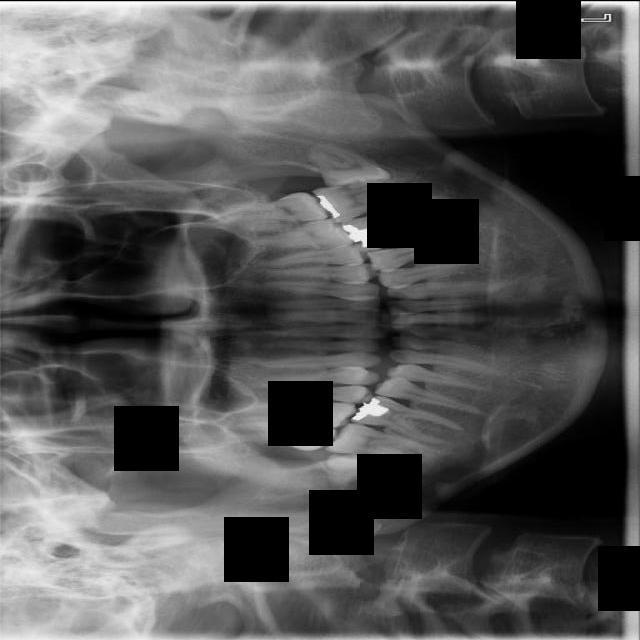52: (340, 223, 386, 249), (348, 394, 390, 421), (314, 191, 342, 220)
73: (548, 51, 548, 62)
BioHorizons Implant: (222, 190, 330, 223)
Biomet 3i Implant: (297, 132, 393, 211)
Blue Sky Bio Implant: (312, 166, 425, 227)
Caries: (221, 416, 336, 453)
Implant: (325, 418, 429, 465)
Keystone Dental Implant: (326, 452, 395, 489)
